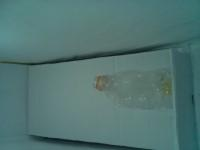bottle: (90, 73, 174, 104)
